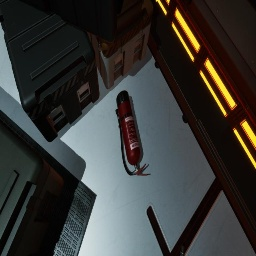FireExtinguisher ]: (115, 90, 148, 176)
